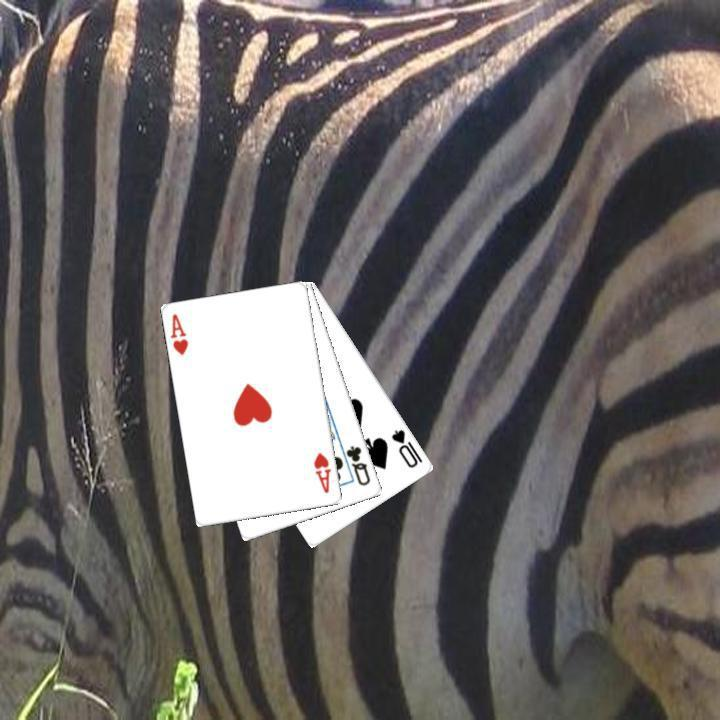10: (387, 425, 425, 470)
A: (166, 310, 190, 357), (310, 448, 333, 495)
Q: (342, 441, 373, 488)
